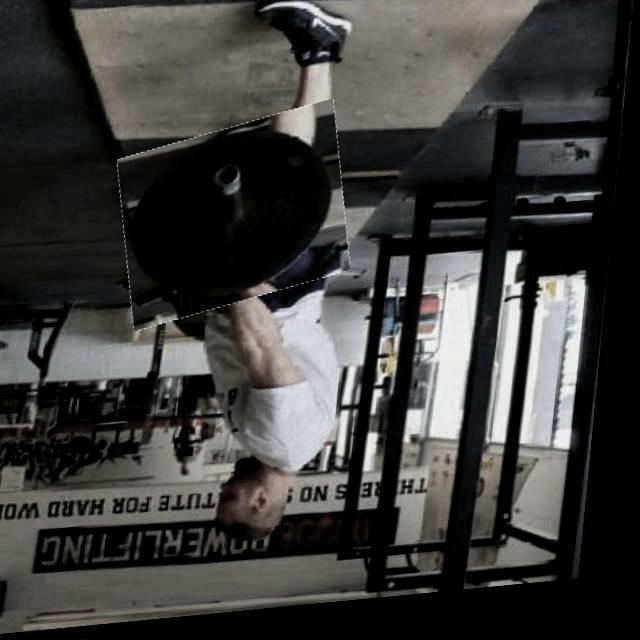barbell: (116, 113, 362, 327)
